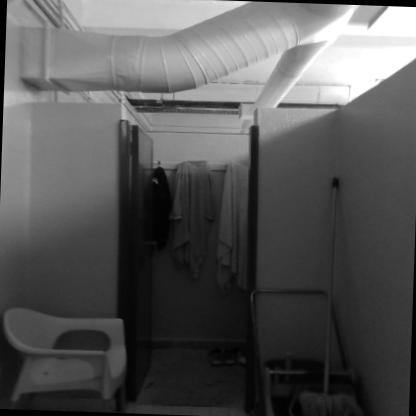open: (106, 92, 274, 381)
